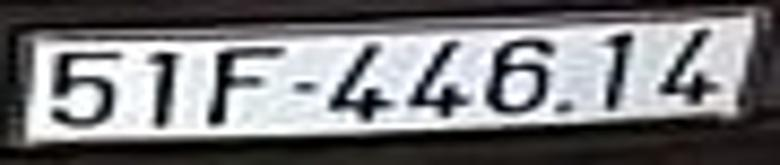-: (294, 83, 320, 96)
.: (551, 96, 574, 114)
1: (593, 32, 636, 115), (144, 50, 180, 130)
4: (326, 43, 395, 123), (406, 41, 475, 120), (656, 32, 723, 108)
5: (49, 49, 126, 130)
6: (481, 36, 556, 116)
F: (205, 42, 286, 132)
